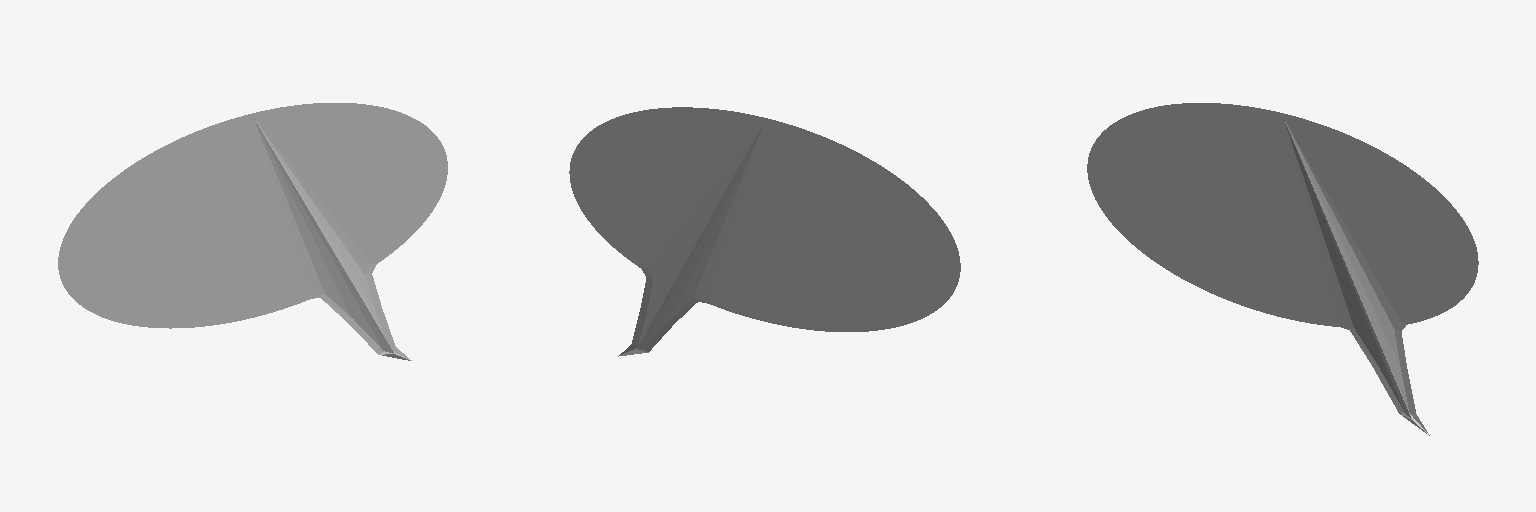
The model's file is dialogbubble.obj.
3 renders of one model, left to right at view 1: azimuth 30°, elevation 25°; view 2: azimuth 150°, elevation 25°; view 3: azimuth 330°, elevation 25°, orthographic.
Parts seen in each view (by area): view 1: Circle; view 2: Circle; view 3: Circle.
Part boxes in pixels (bbox=[...]): Circle: bbox=[58, 103, 447, 360]; Circle: bbox=[569, 107, 960, 356]; Circle: bbox=[1087, 103, 1478, 435].
Bounding box in the file's own units: 4 × 2.75 × 0.1172.